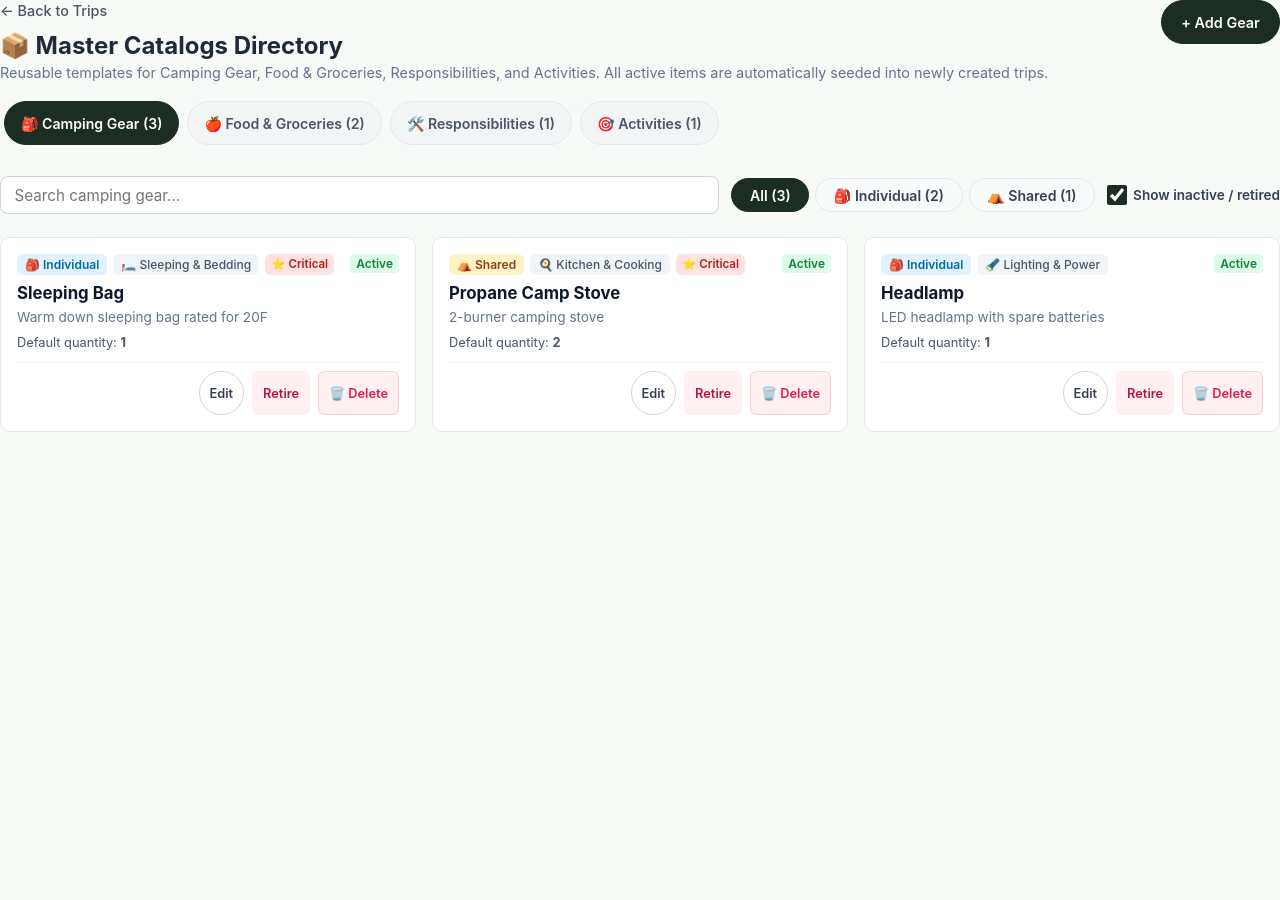
Test case: MasterCatalogPage › opens delete confirmation modal with safe unlinking explanation and sends delete action
The width and height of the screenshot is (1280, 900).
Expected: the heading "Propane Camp Stove" is shown, left=449, top=283, right=620, bottom=303
Note: Find card for Propane Camp Stove
Click the button "🗑️ Delete" below "2-burner camping stove" at (791, 393), box left=750, top=371, right=831, bottom=415
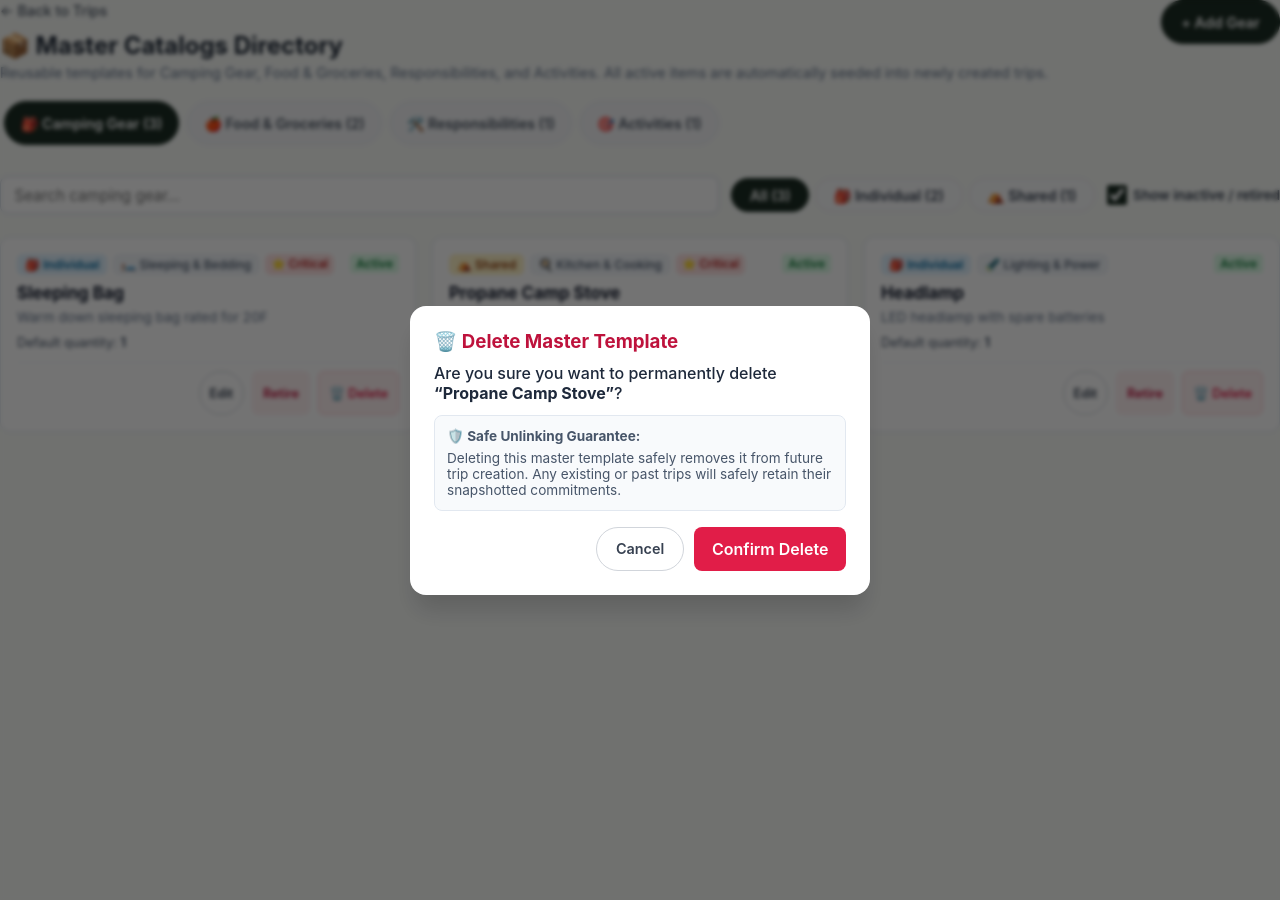
Now the dialog "Delete Master Template" is shown, box left=410, top=306, right=870, bottom=594
Now the text "🛡️ Safe Unlinking Guarantee:" is shown, box left=447, top=428, right=640, bottom=444
Now the text "snapshotted" is shown, box left=447, top=450, right=831, bottom=498
Note: Confirm deletion
Click the button "Confirm Delete" at (770, 548), box left=694, top=526, right=846, bottom=570
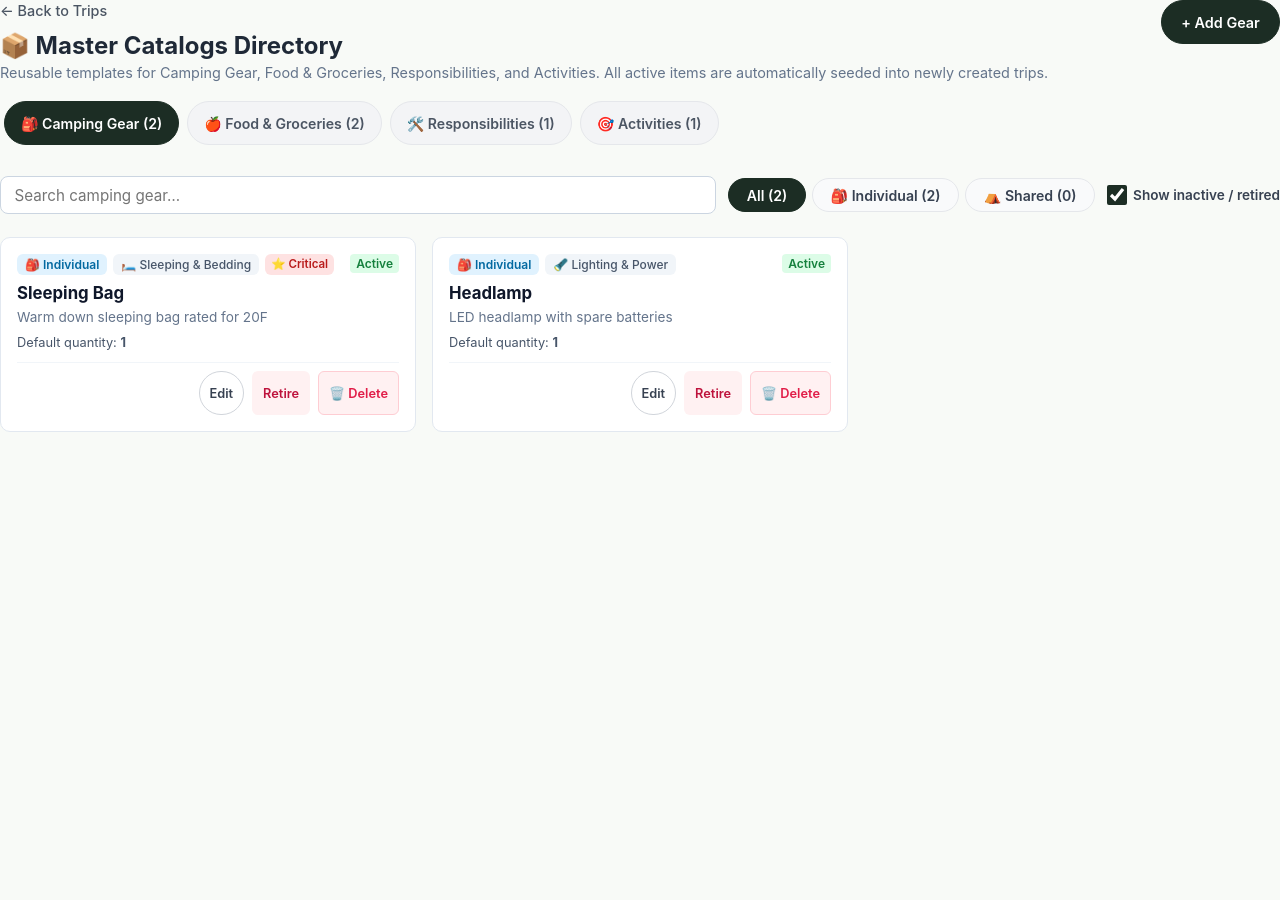
Now the heading "Propane Camp Stove" is gone
